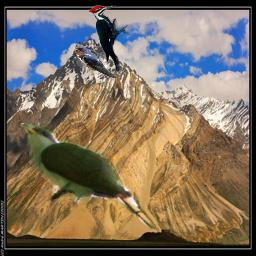Cuckoo: (18, 123, 159, 231)
Swallow: (74, 45, 117, 78)
Woodpecker: (89, 4, 128, 71)
